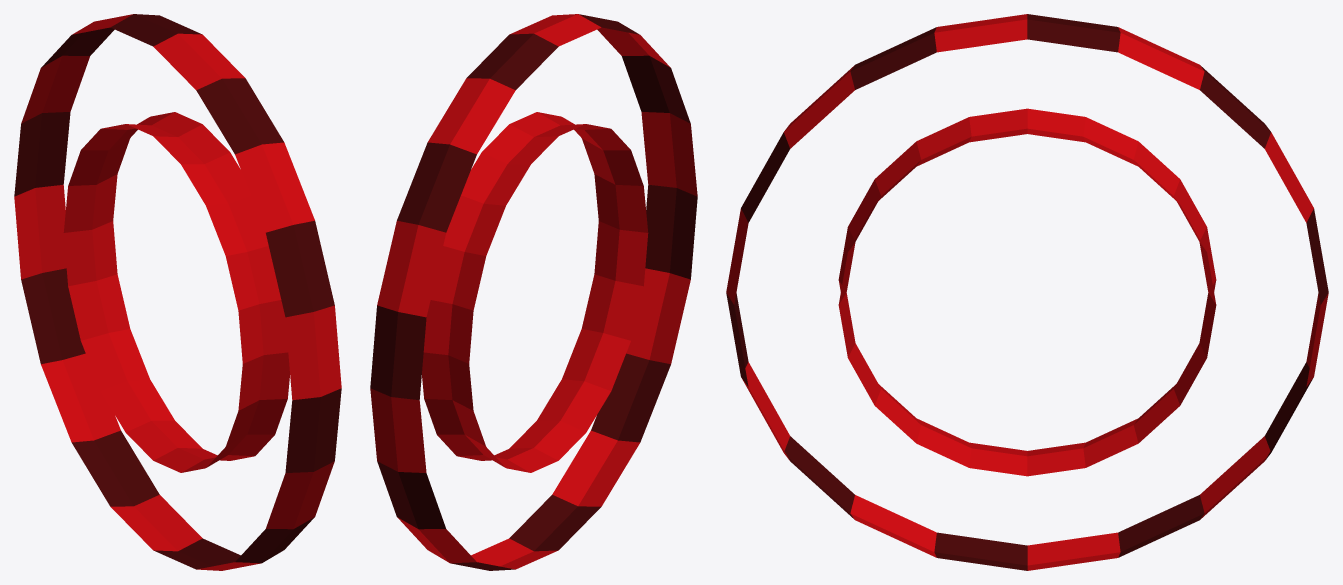
The model's file is CorredorMOVIL4.obj.
3 renders of one model, left to right at view 1: azimuth 30°, elevation 25°; view 2: azimuth 150°, elevation 25°; view 3: azimuth 270°, elevation 25°, orthographic. The views are drawn at different scales.
Parts seen in each view (by area): view 1: Torus.027; view 2: Torus.027; view 3: Torus.027.
Boxes of the visible parts, left/top/right/bottom form: Torus.027: left=14, top=14, right=341, bottom=570; Torus.027: left=370, top=14, right=697, bottom=570; Torus.027: left=726, top=14, right=1328, bottom=570.
Bounding box in the file's own units: 0.1125 × 1.12 × 1.12.
